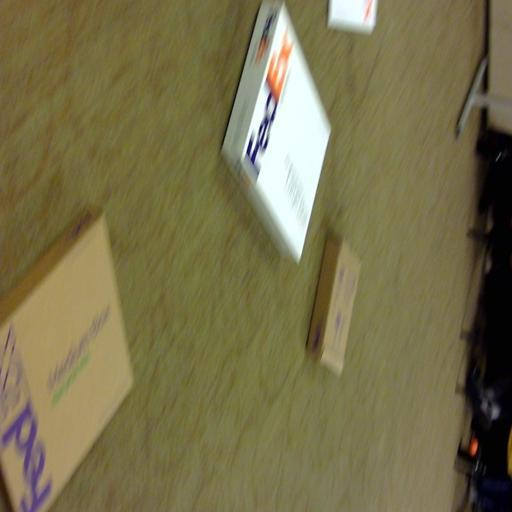Amazon: (0, 200, 132, 512), (222, 2, 336, 254)
